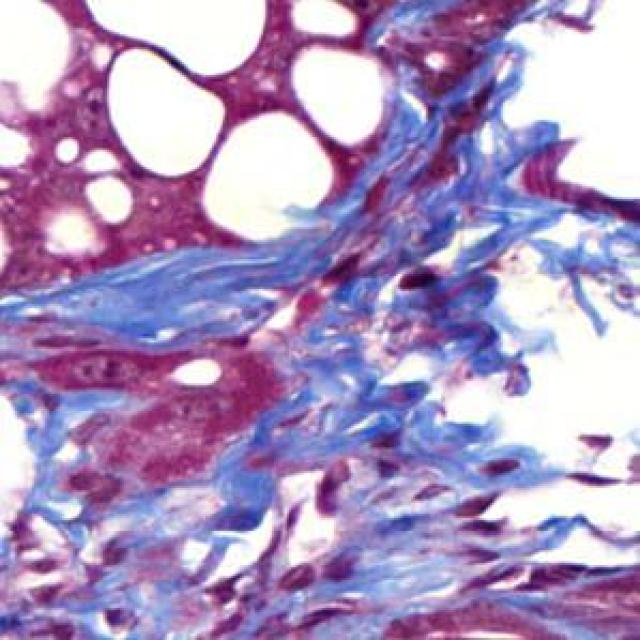steatosis: (96, 47, 225, 182), (285, 39, 400, 148)
